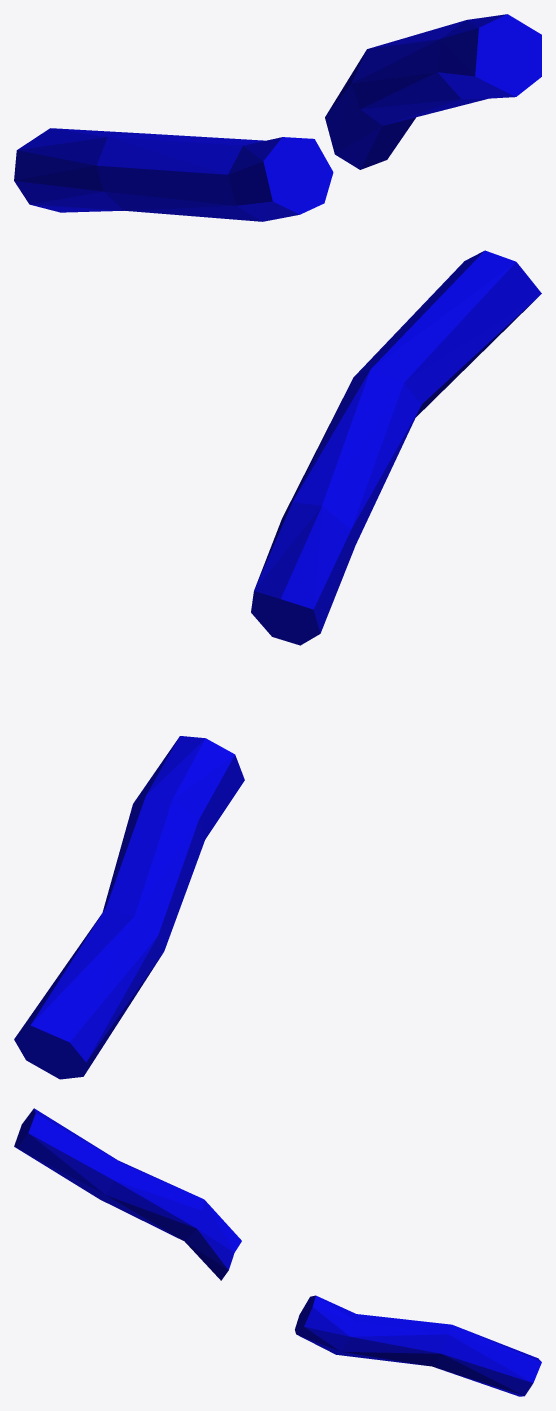
File: blueCut.fbx
3 views of the same model, one above another, from view 1: azimuth 30°, elevation 25°; view 2: azimuth 150°, elevation 25°; view 3: azimuth 270°, elevation 25° (orthographic). The views are drawn at different scales.
Parts seen in each view (by area): view 1: blue; view 2: blue; view 3: blue.
Part boxes in pixels (x1,y1,x2,y2): blue: (14,14,541,221); blue: (14,250,541,1079); blue: (14,1108,541,1396).
Bounding box in the file's own units: 9.4 × 39.78 × 66.67.
